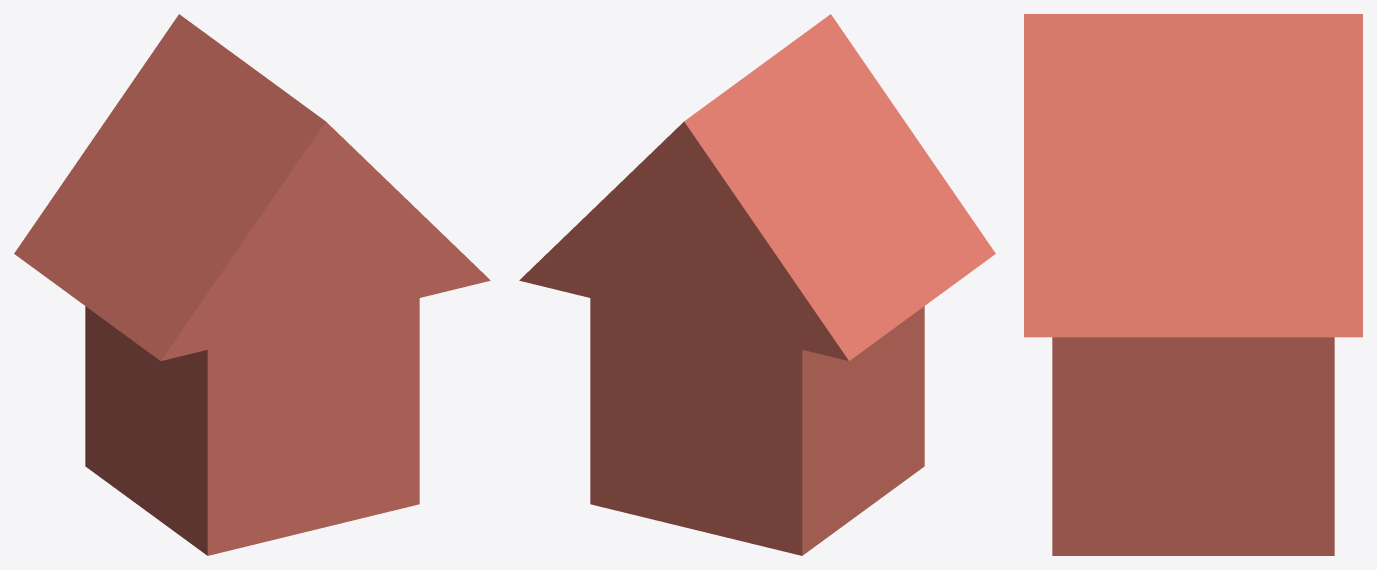
File: house.glb
3 renders of one model, left to right at view 1: azimuth 30°, elevation 25°; view 2: azimuth 150°, elevation 25°; view 3: azimuth 270°, elevation 25°, orthographic. The views are drawn at different scales.
Parts seen in each view (by area): view 1: House; view 2: House; view 3: House.
Part boxes in pixels (box(x1,y1,x2,y2)): House: box(14, 14, 490, 555); House: box(519, 14, 995, 555); House: box(1024, 14, 1362, 555).
Size of the model in its own units: 3.12 by 3.77 by 2.4.
